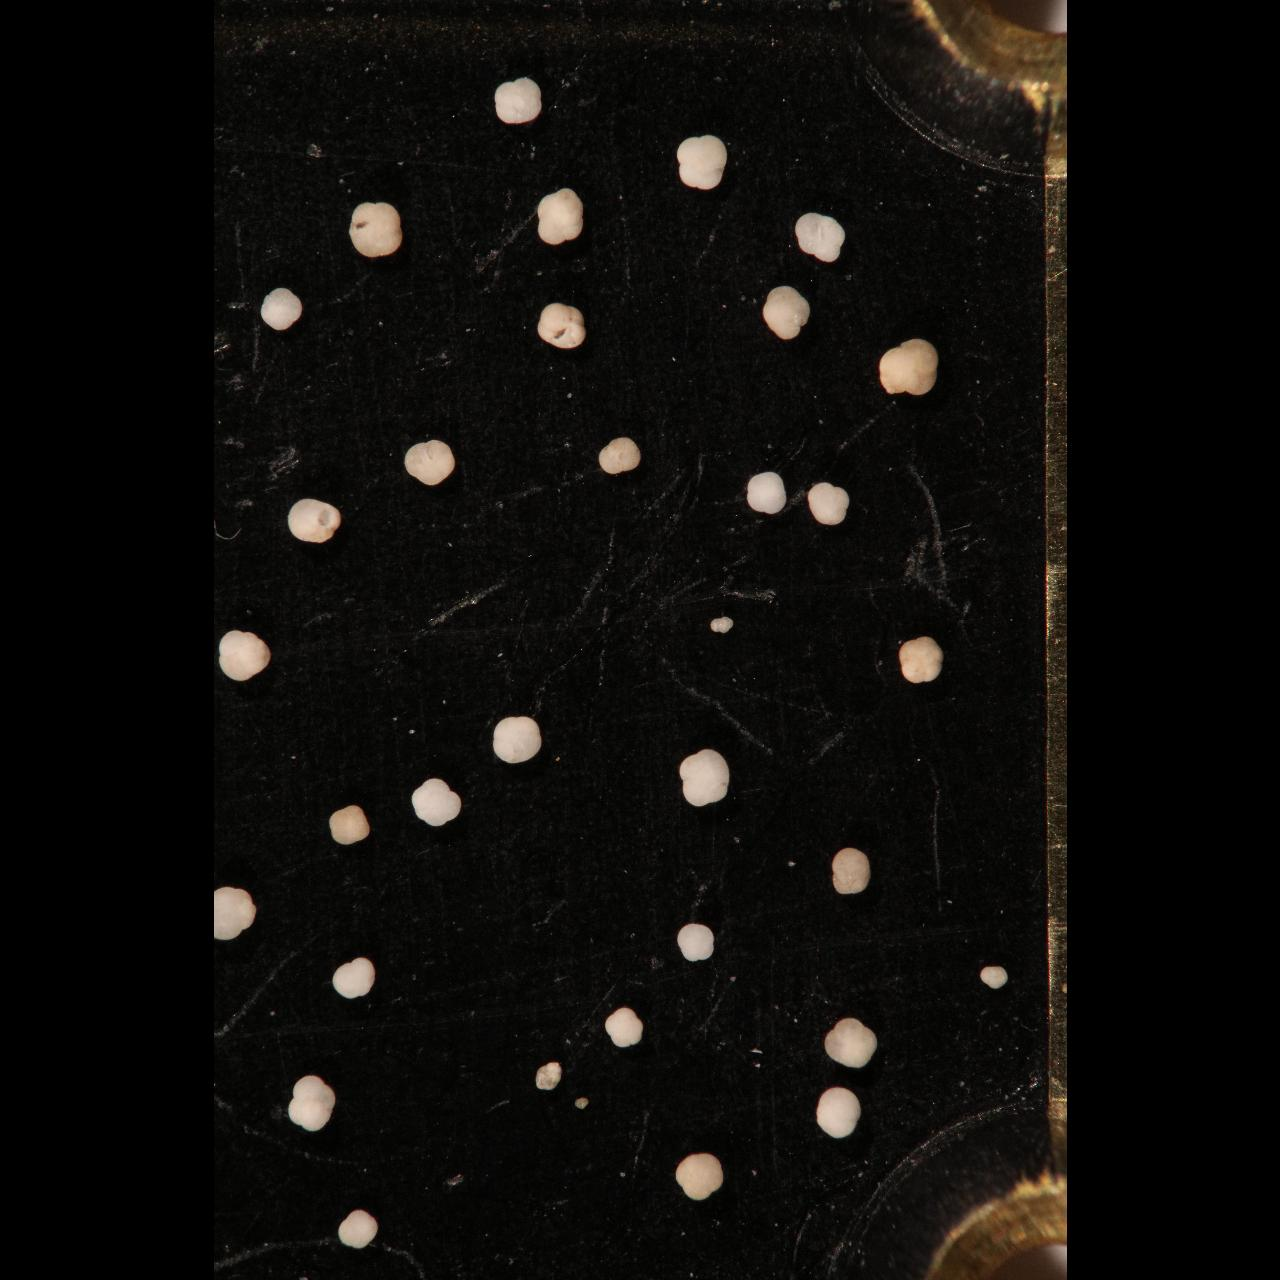planktic: (878, 336, 940, 397), (823, 1014, 879, 1071), (348, 200, 403, 259), (678, 748, 730, 809), (285, 1073, 335, 1133), (535, 185, 584, 246), (218, 629, 272, 683), (676, 134, 726, 192), (409, 776, 463, 828), (762, 285, 810, 341), (794, 211, 844, 263), (491, 715, 543, 765), (674, 1151, 724, 1203), (286, 496, 342, 542), (403, 438, 457, 485), (816, 1085, 862, 1141), (215, 884, 256, 942), (493, 76, 542, 125), (538, 302, 586, 352), (898, 634, 942, 686), (831, 845, 873, 897), (806, 481, 850, 527), (331, 955, 376, 999), (259, 285, 301, 332), (595, 434, 642, 476), (328, 803, 372, 846), (745, 470, 787, 516), (604, 1006, 645, 1050), (336, 1207, 377, 1251), (675, 921, 715, 964), (531, 1060, 561, 1092), (979, 964, 1008, 990), (709, 614, 733, 634)
